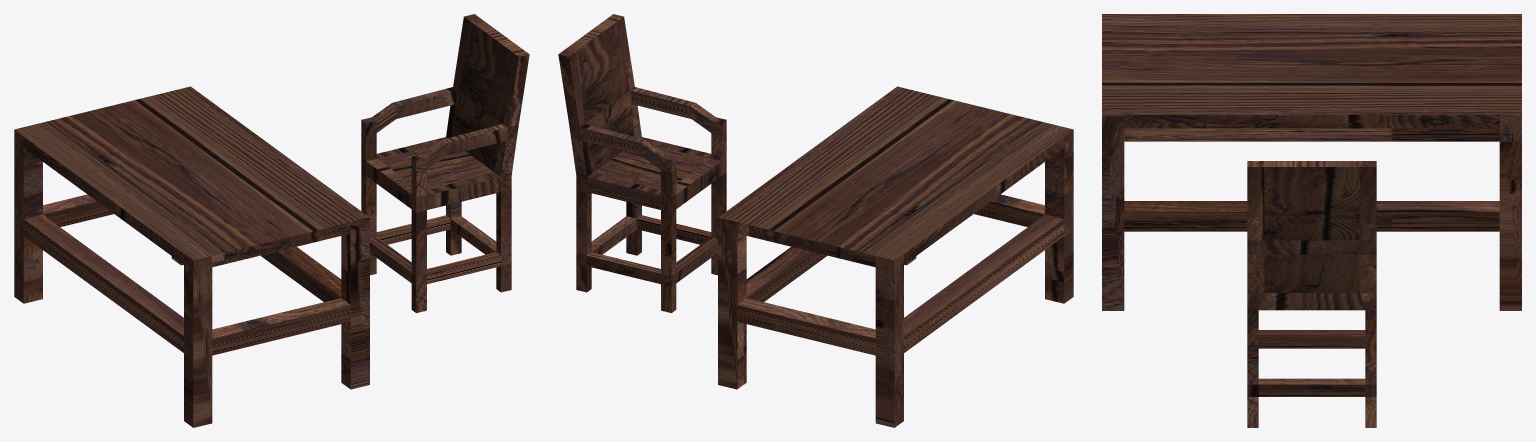
File: Benda.fbx
The picture shows the model from 3 angles, left to right: view 1: azimuth 30°, elevation 25°; view 2: azimuth 150°, elevation 25°; view 3: azimuth 270°, elevation 25°; orthographic projection. The views are drawn at different scales.
Visible parts, largest first — view 1: Cube, Cube.001; view 2: Cube, Cube.001; view 3: Cube, Cube.001.
Part boxes in pixels (x1,y1,x2,y2): Cube: (14,86,369,427); Cube.001: (361,14,529,312); Cube: (718,86,1073,427); Cube.001: (558,14,726,312); Cube: (1102,14,1521,310); Cube.001: (1247,161,1376,427).
Bounding box in the file's own units: 1237 × 687 × 964.
1 material, 1 textured.
